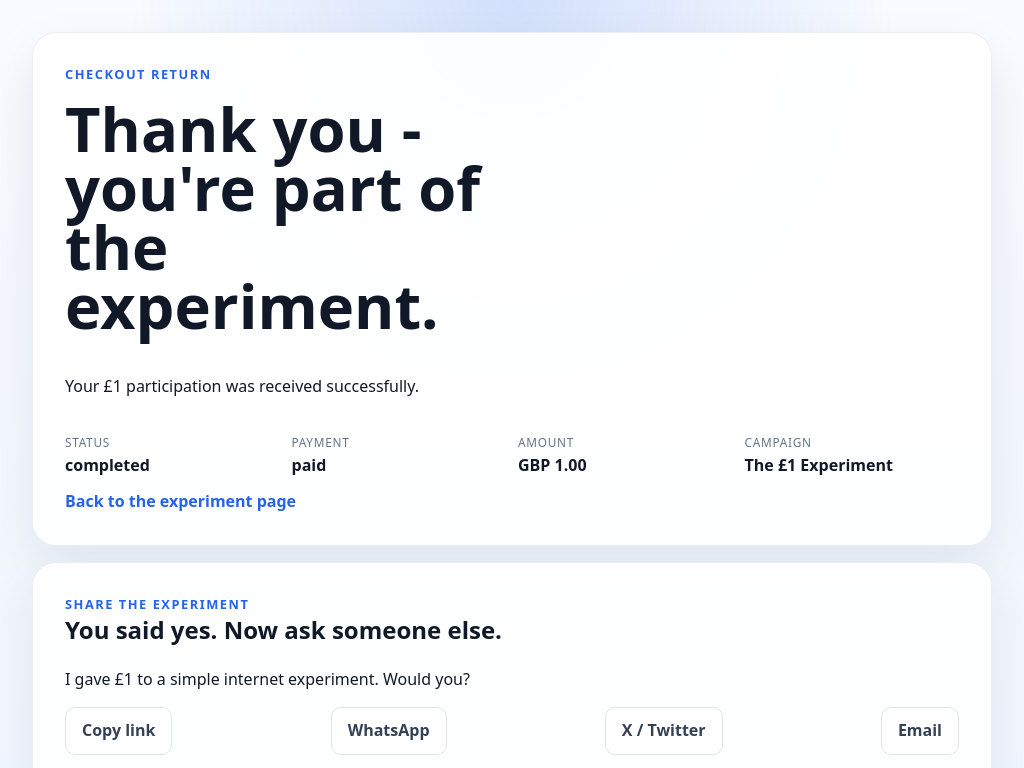
Test: Experiment thank-you page › shows a safe clipboard fallback message when copying fails
Check: the heading "Thank you - you're part of the experiment." is shown, box [65, 99, 487, 335]
Click the button with aria-label "Copy your referral link": {"x": 119, "y": 731} [65, 707, 172, 755]
(page scrolled)
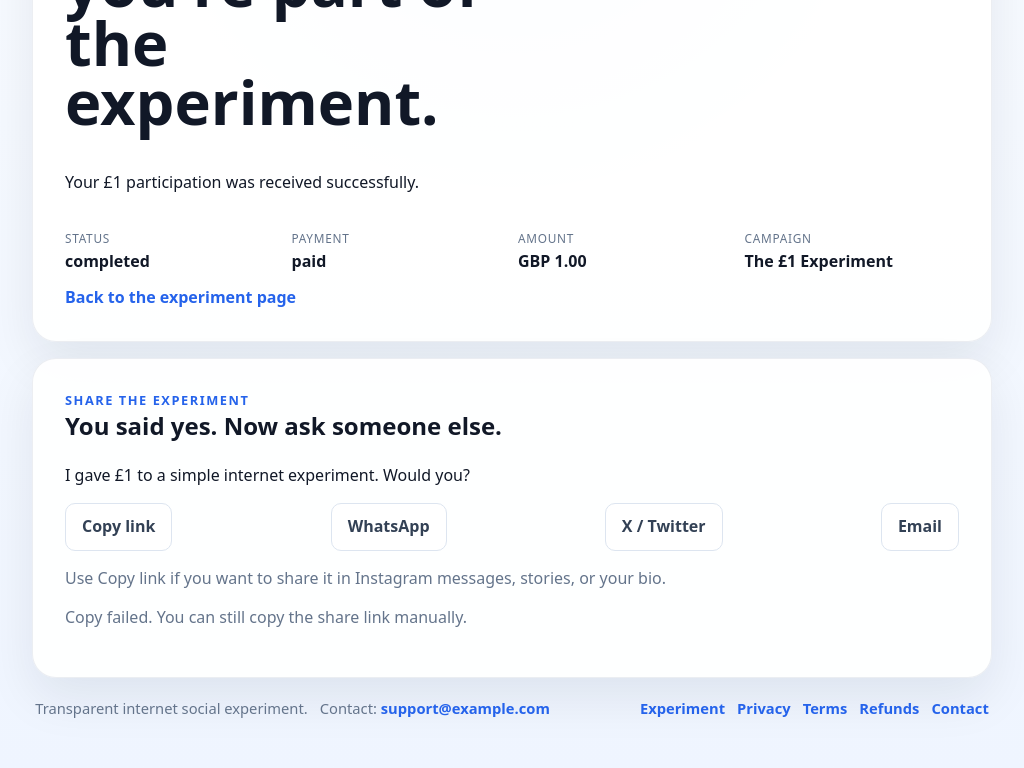
Check: the text "Copy failed. You can still copy the share link manually." is shown, box [65, 606, 467, 628]
